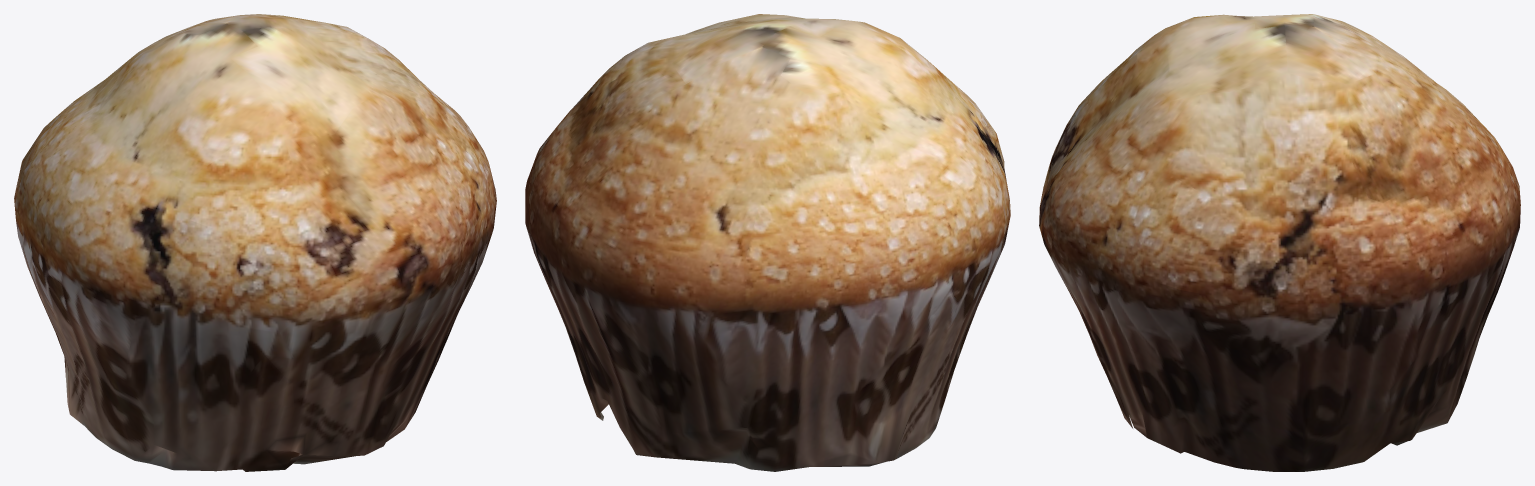
File: muffin.obj
3 views of the same model, side by side, from view 1: azimuth 30°, elevation 25°; view 2: azimuth 150°, elevation 25°; view 3: azimuth 270°, elevation 25° (orthographic).
Parts seen in each view (by area): view 1: muffin; view 2: muffin; view 3: muffin.
Part boxes in pixels (box(x1,y1,x2,y2)): muffin: box(14, 14, 496, 471); muffin: box(525, 14, 1010, 471); muffin: box(1039, 14, 1520, 471).
Size of the model in its own units: 2.43 by 2.11 by 2.45.
